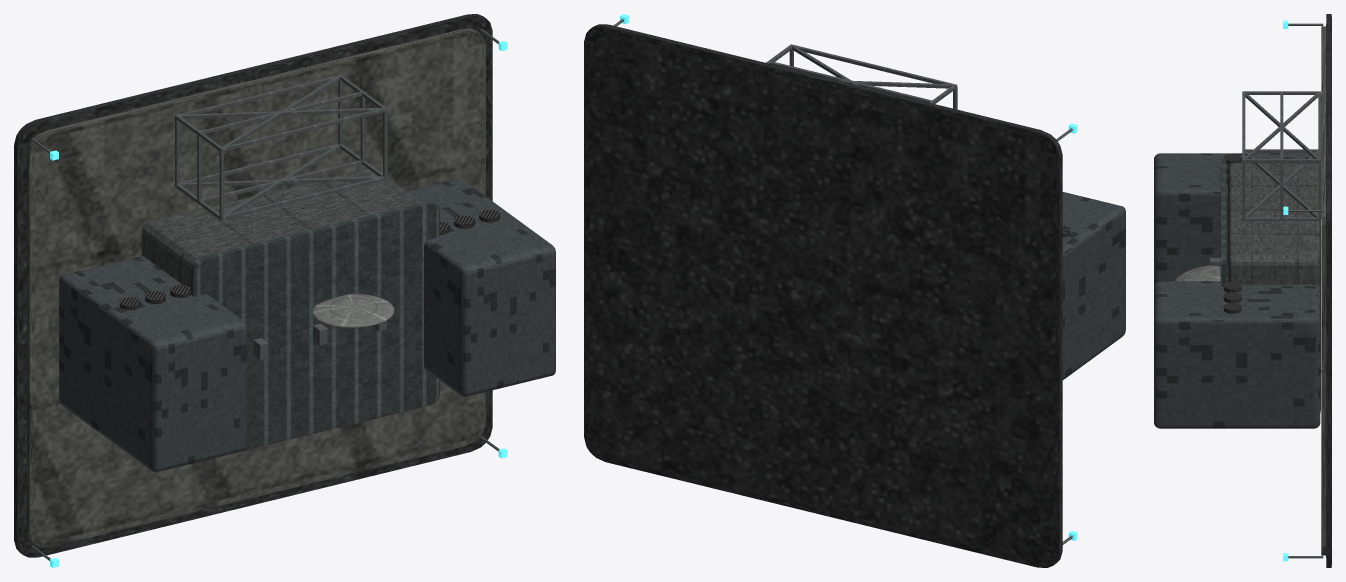
The model's file is b-09-credit-exchange-lod0.glb.
3 views of the same model, side by side, from view 1: azimuth 30°, elevation 25°; view 2: azimuth 150°, elevation 25°; view 3: azimuth 270°, elevation 25° (orthographic). The views are drawn at different scales.
Parts seen in each view (by area): view 1: foundation_inner_pad, operations_hall_roof, server_tower_-5.2, server_tower_5.2, foundation, operations_hall_main_hall, exchange_dish_dish, exchange_substation_brace_a_1.1, exchange_substation_brace_a_-1.1, exchange_substation_beam_x_2_n, exchange_substation_beam_x_2_s, exchange_substation_beam_x_0_n (+4 smaller); view 2: foundation, server_tower_-5.2, exchange_substation_beam_x_2_n; view 3: server_tower_5.2, operations_hall_main_hall, server_tower_-5.2, foundation, foundation_inner_pad, operations_hall_roof, exchange_dish_dish, exchange_substation_brace_b_1.1, exchange_substation_brace_a_1.1, exchange_substation_brace_a_-1.1, exchange_substation_brace_b_-1.1, exchange_substation_column_e_n (+6 smaller).
Boxes of the visible parts, x1,y1,x2,y2 form: foundation_inner_pad: (27, 28, 485, 547); operations_hall_roof: (190, 201, 439, 450); server_tower_-5.2: (59, 256, 246, 472); server_tower_5.2: (407, 178, 555, 396); foundation: (14, 14, 492, 557); operations_hall_main_hall: (141, 168, 421, 287); exchange_dish_dish: (312, 294, 394, 327); exchange_substation_brace_a_1.1: (180, 107, 382, 118); exchange_substation_brace_a_-1.1: (179, 176, 382, 187); exchange_substation_beam_x_2_n: (219, 108, 386, 151); exchange_substation_beam_x_2_s: (219, 176, 386, 220); exchange_substation_beam_x_0_n: (175, 75, 339, 118); foundation: (584, 24, 1062, 567); server_tower_-5.2: (1062, 192, 1125, 379); exchange_substation_beam_x_2_n: (792, 45, 957, 88); server_tower_5.2: (1154, 281, 1320, 428); operations_hall_main_hall: (1227, 163, 1320, 412); server_tower_-5.2: (1154, 153, 1318, 285); foundation: (1326, 14, 1331, 567); foundation_inner_pad: (1321, 26, 1326, 555); operations_hall_roof: (1220, 157, 1226, 286); exchange_dish_dish: (1174, 265, 1220, 281); exchange_substation_brace_b_1.1: (1245, 92, 1318, 158); exchange_substation_brace_a_1.1: (1245, 92, 1318, 158); exchange_substation_brace_a_-1.1: (1245, 150, 1318, 217); exchange_substation_brace_b_-1.1: (1245, 150, 1318, 217); exchange_substation_column_e_n: (1245, 159, 1318, 162).
Size of what is drawn, in the model's own units: 16 by 14 by 6.1.
9 materials, 9 textured.
